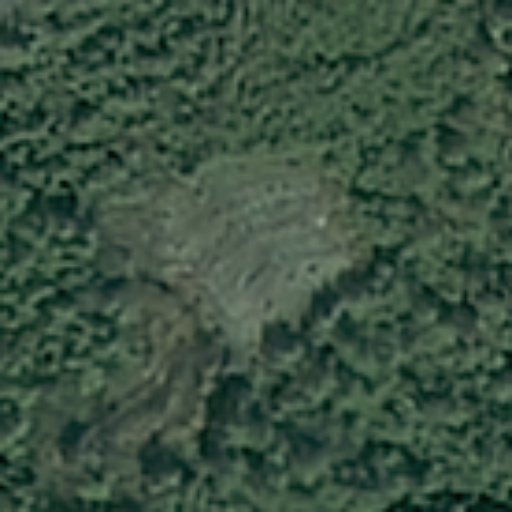landslide: (89, 143, 369, 332)
